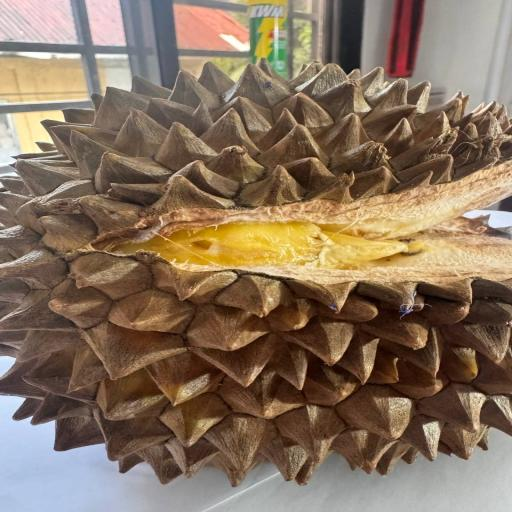rot: (0, 30, 511, 511)
